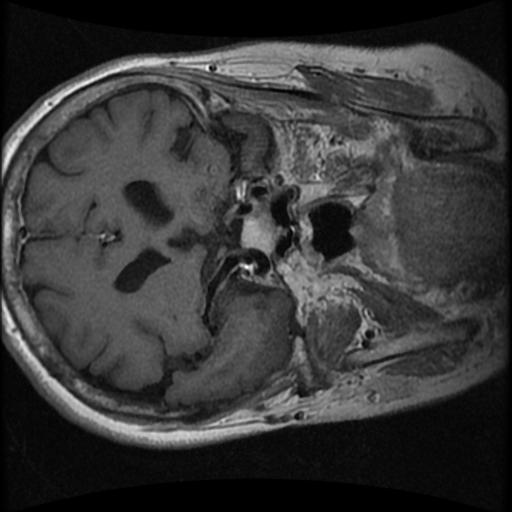pituitary tumour: (239, 194, 286, 257)
